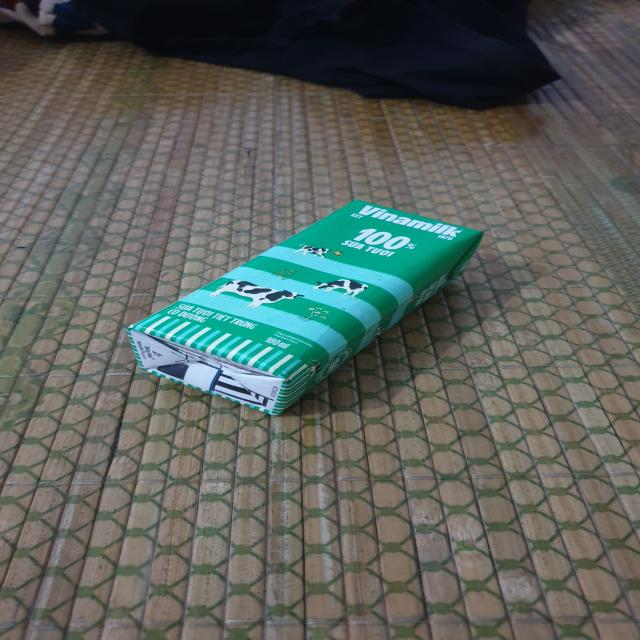Vina: (118, 195, 492, 423)
